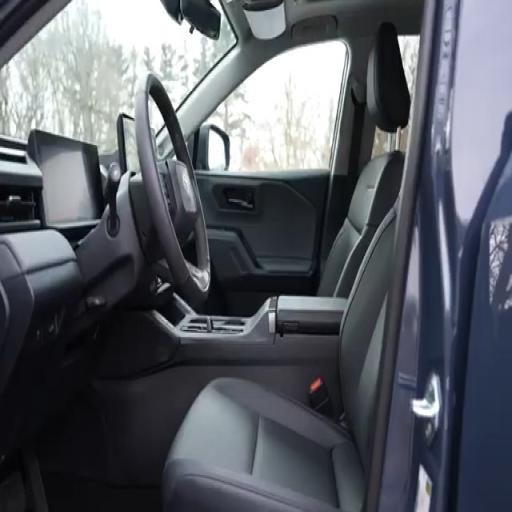door: (197, 42, 347, 314)
emblem: (183, 173, 191, 196)
side_mirror: (161, 0, 220, 39), (196, 124, 230, 170)
window: (208, 40, 347, 170), (399, 36, 419, 98)
windshield: (0, 0, 235, 150)
